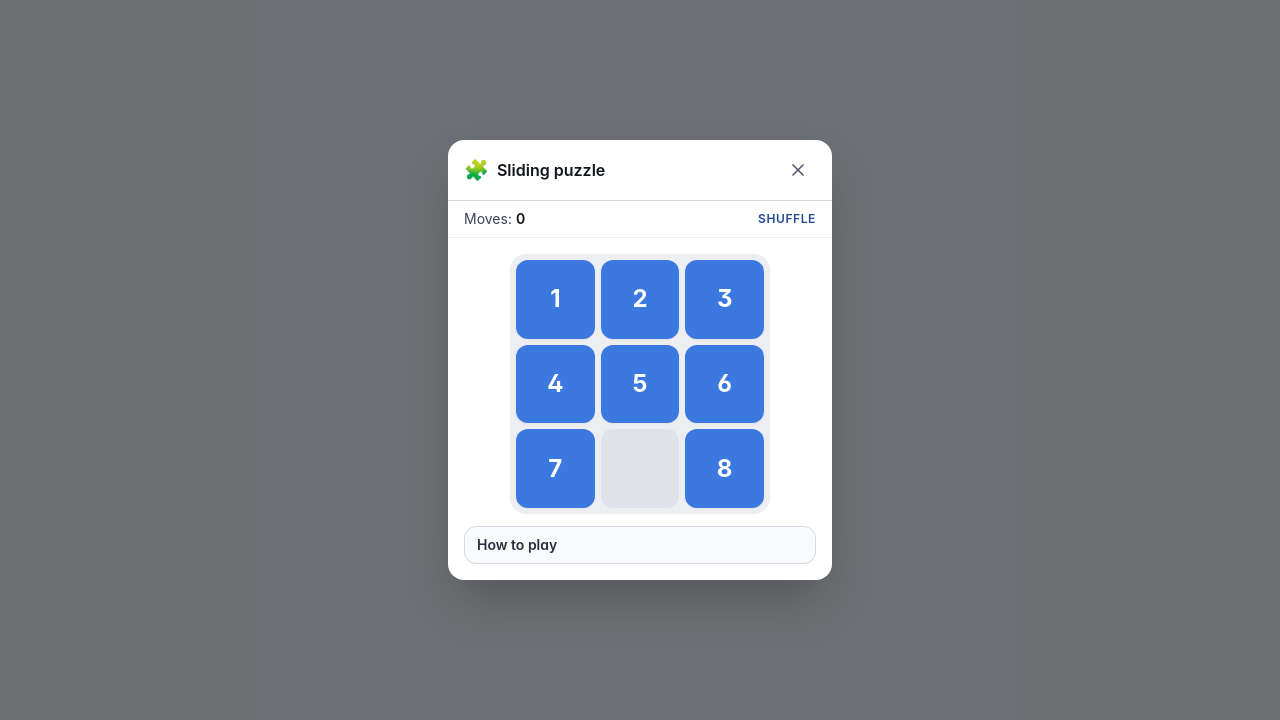
Test: games end on the shared panel › Sliding puzzle: solving shows tile-puzzle-solved with the move count
Click the button "8" at (725, 469), box [685,429,764,508]
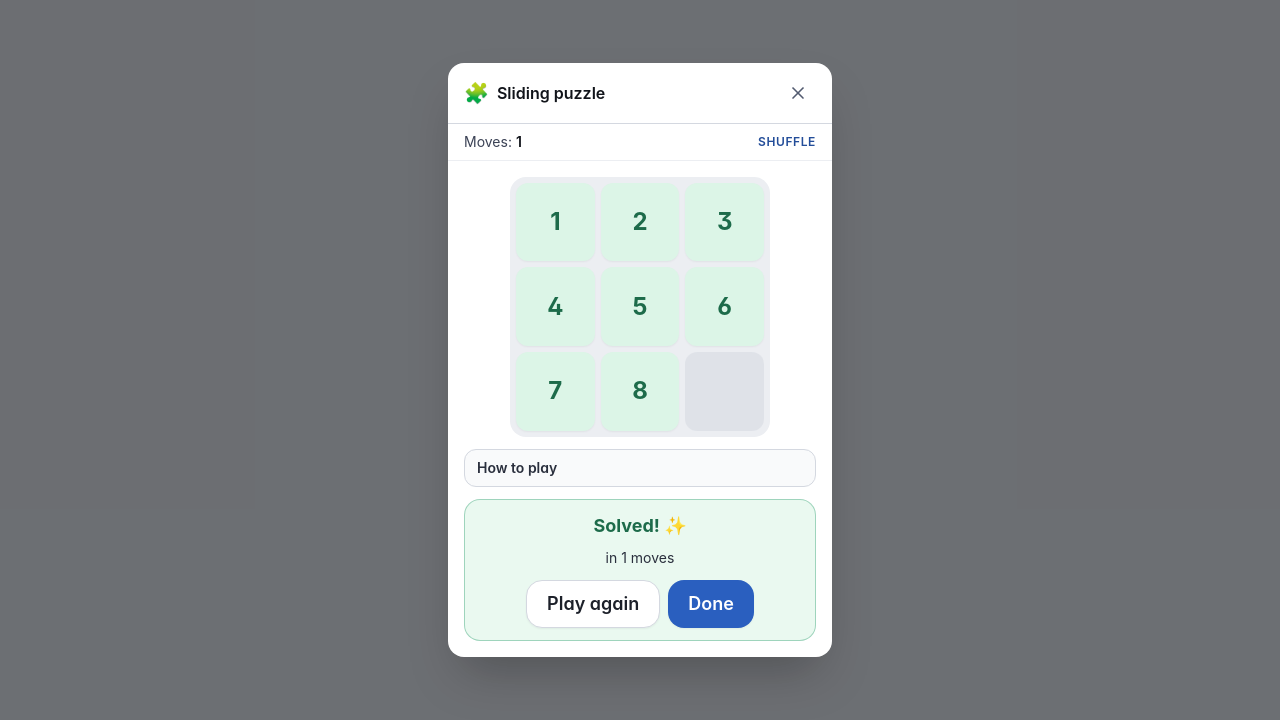
Expected: the button "Play again" is shown, [526,580,660,628]
Expected: the button "Done" is shown, [668,580,754,628]
